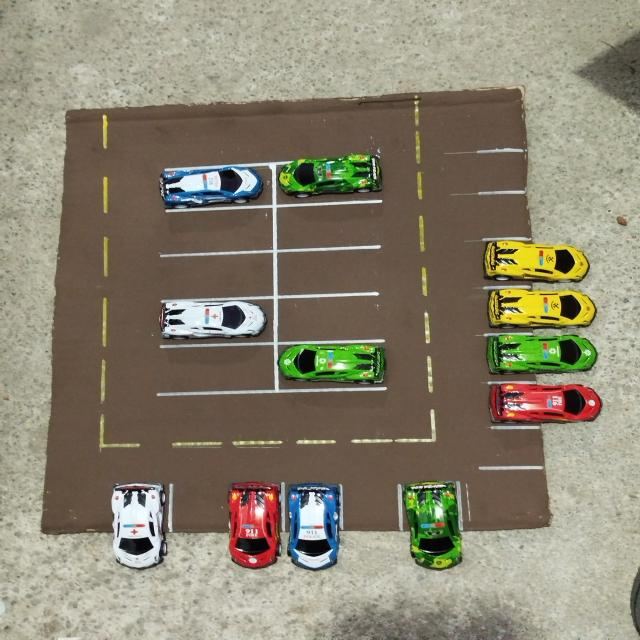libre: (156, 344, 277, 394), (46, 477, 108, 566), (470, 192, 589, 237), (340, 484, 398, 574), (158, 254, 278, 296), (274, 205, 383, 251), (276, 296, 386, 341), (464, 151, 589, 190), (160, 209, 274, 251), (174, 479, 225, 570), (276, 252, 384, 293), (482, 427, 590, 467)
no_estacionarse: (469, 468, 556, 540)
ocupado: (399, 479, 465, 573), (111, 478, 171, 572), (483, 333, 605, 378), (482, 382, 606, 426), (225, 479, 285, 569), (155, 300, 276, 344), (480, 285, 600, 329), (274, 344, 392, 388), (474, 240, 592, 284), (286, 480, 340, 572), (274, 156, 386, 200), (157, 168, 272, 207)
